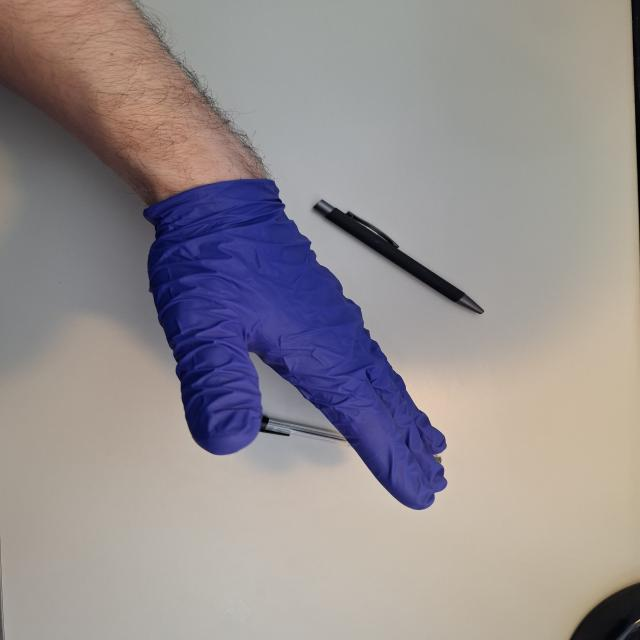glove_on: (141, 183, 452, 512)
